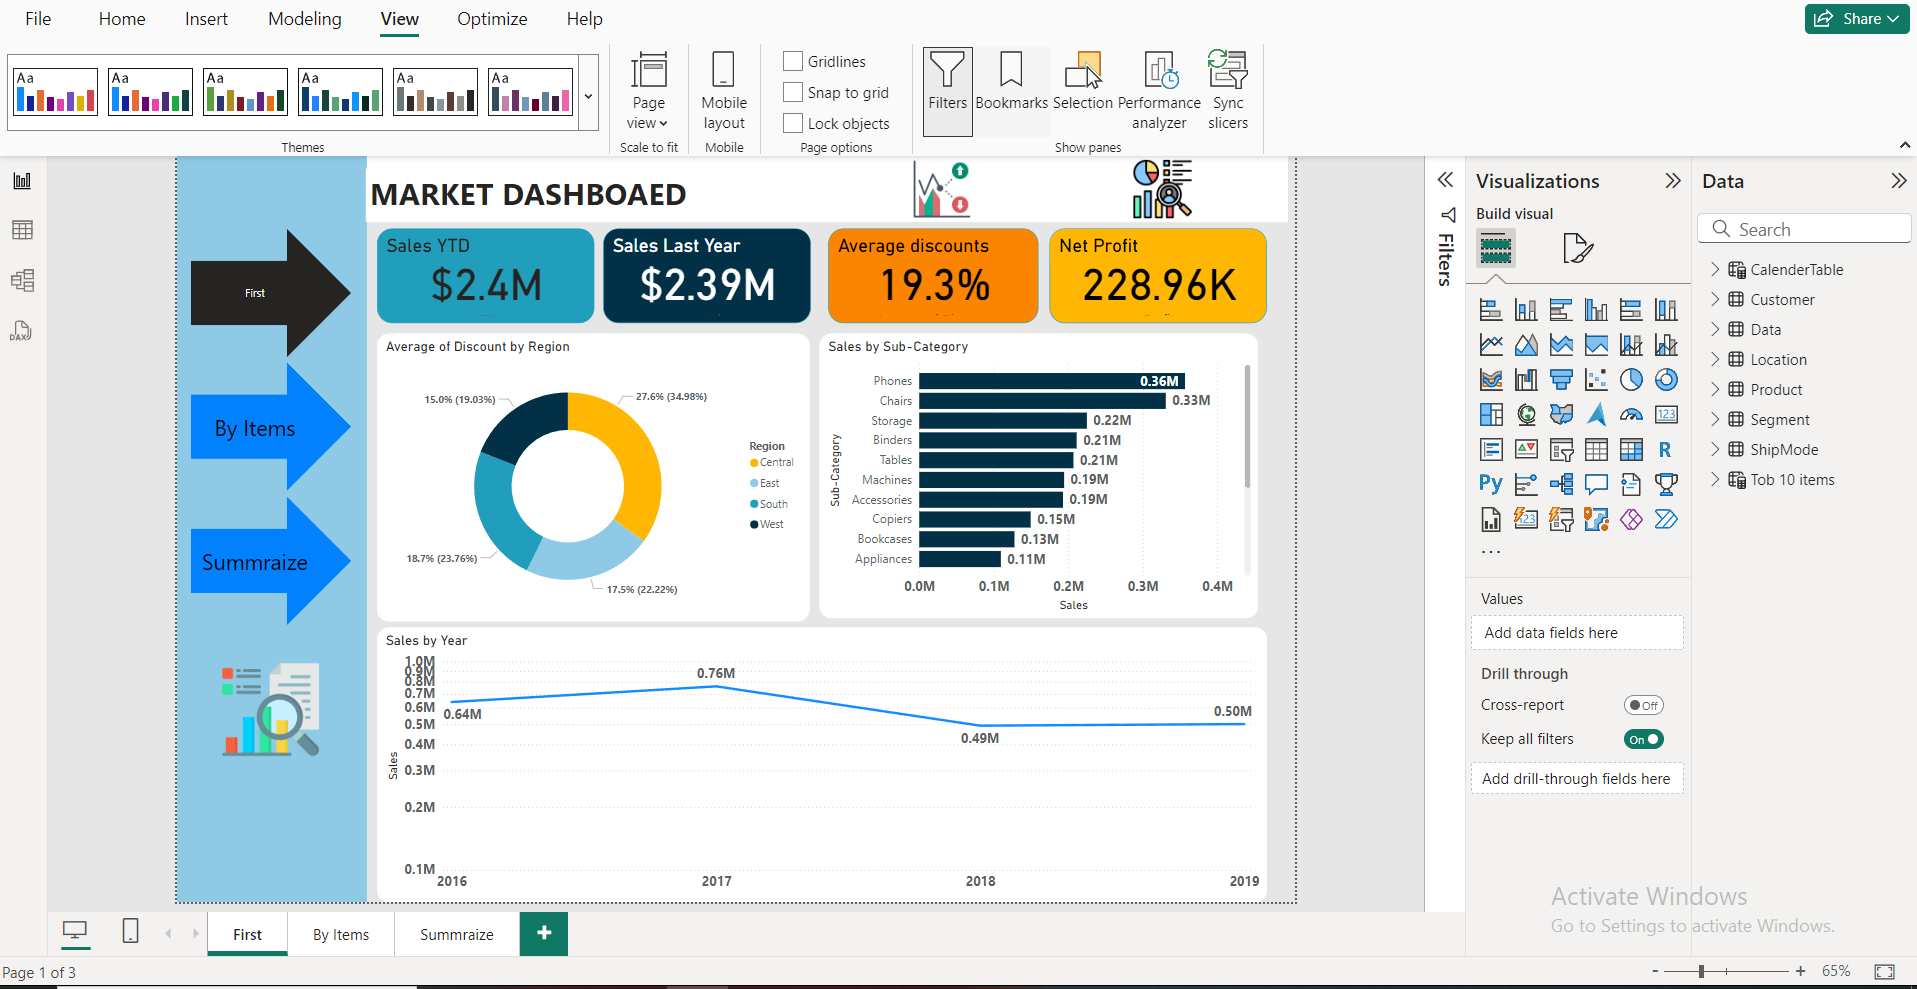

This screenshot's page, from the dashboard's own definition file:
{"tool":"powerbi","page":{"name":"First","canvas":[1380,920],"ordinal":0},"visuals":[{"type":"shape","box":[0,0,234.2,920],"z":0},{"type":"shape","box":[234.2,0,1135.7,81.7],"z":1000},{"type":"textbox","box":[233.5,15.1,468.4,65.9],"z":2000},{"type":"lineChart","fields":{"Y":["Sum(Data.Sales)"],"Category":["Data.Ship Date.Variation.Date Hierarchy.Year"]},"box":[246.6,581,1097.2,339],"z":3000},{"type":"pageNavigator","box":[16.7,90,198.3,491.7],"z":4000},{"type":"card","title":"Sales YTD","fields":{"Values":["Data.YTD"]},"box":[246.6,89.4,268.1,117.1],"z":5000},{"type":"card","title":"Sales Last Year","fields":{"Values":["CalenderTable.pytd"]},"box":[525.5,89.4,255.8,117.1],"z":6000},{"type":"card","title":"Net Profit","fields":{"Values":["Sum(Data.Profit)"]},"box":[1075.6,89.4,268.1,117.1],"z":7000},{"type":"card","title":"Average discounts","fields":{"Values":["Avg(Data.Discount)"]},"box":[802.9,89.4,258.9,117.1],"z":8000},{"type":"barChart","fields":{"Y":["Sum(Data.Sales)"],"Category":["Product.Sub-Category"]},"box":[792.1,218.8,540.9,351.4],"z":9000},{"type":"donutChart","fields":{"Y":["Avg(Data.Discount)"],"Series":["Location.Region"]},"box":[246.7,218.3,533.3,355],"z":10000},{"type":"image","box":[1111.1,0,208,81.7],"z":11000},{"type":"image","box":[861.4,0,163.4,81.7],"z":12000},{"type":"image","box":[44.7,614.9,141.8,135.6],"z":13000}]}

Visuals, with their boxes on the page's 1380x920 design canvas (x1, y1, x2, y2). These are canvas units, not pixel positions in the 1917x989 screenshot, which may show the page scaled, cropped or inside an application window:
shape: pyautogui.locateOnScreen(0, 0, 234, 920)
shape: pyautogui.locateOnScreen(234, 0, 1370, 82)
textbox: pyautogui.locateOnScreen(234, 15, 702, 81)
lineChart - Sum(Data.Sales) x Data.Ship Date.Variation.Date Hierarchy.Year: pyautogui.locateOnScreen(247, 581, 1344, 920)
pageNavigator: pyautogui.locateOnScreen(17, 90, 215, 582)
"Sales YTD" card: pyautogui.locateOnScreen(247, 89, 515, 206)
"Sales Last Year" card: pyautogui.locateOnScreen(526, 89, 781, 206)
"Net Profit" card: pyautogui.locateOnScreen(1076, 89, 1344, 206)
"Average discounts" card: pyautogui.locateOnScreen(803, 89, 1062, 206)
barChart - Sum(Data.Sales) x Product.Sub-Category: pyautogui.locateOnScreen(792, 219, 1333, 570)
donutChart - Avg(Data.Discount) x Location.Region: pyautogui.locateOnScreen(247, 218, 780, 573)
image: pyautogui.locateOnScreen(1111, 0, 1319, 82)
image: pyautogui.locateOnScreen(861, 0, 1025, 82)
image: pyautogui.locateOnScreen(45, 615, 186, 750)
